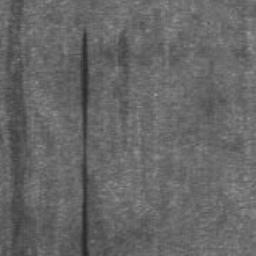Scratches: (78, 29, 89, 256)
